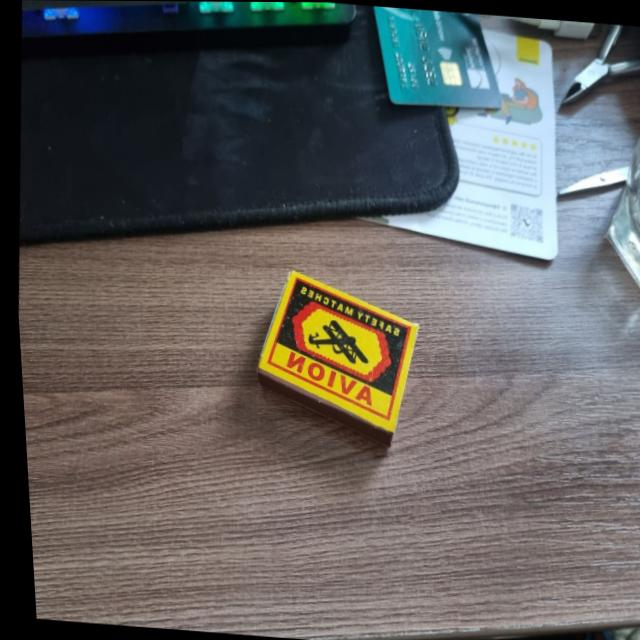match: (240, 265, 425, 451)
